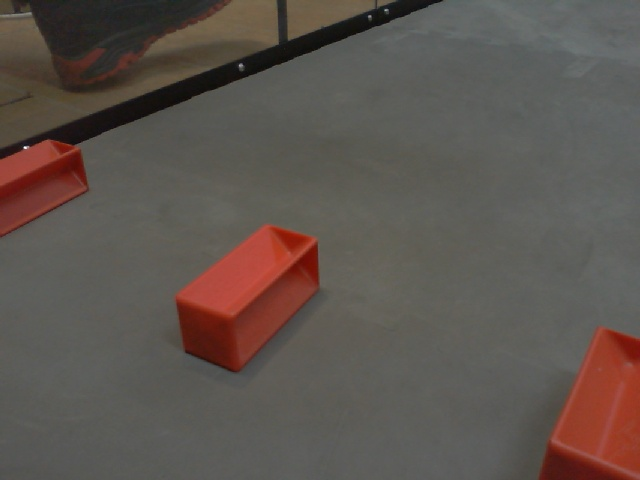RedSample: (171, 223, 319, 375), (534, 319, 638, 480), (1, 139, 89, 234)
